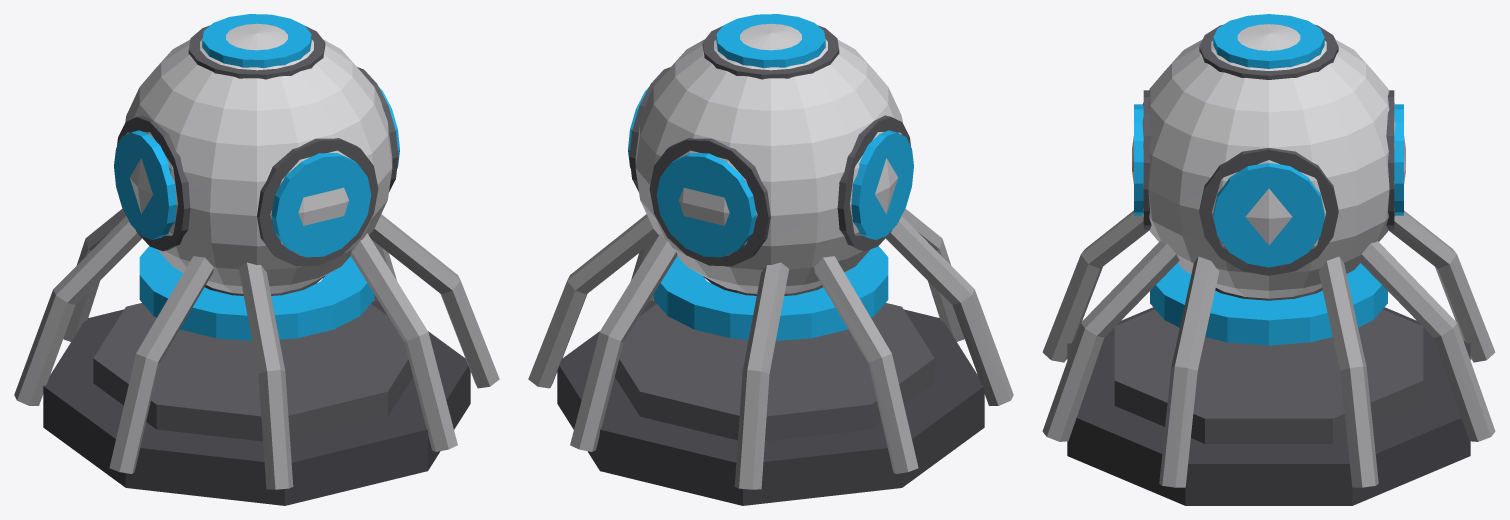
File: vge_grav_field_extender.obj
3 views of the same model, side by side, from view 1: azimuth 30°, elevation 25°; view 2: azimuth 150°, elevation 25°; view 3: azimuth 270°, elevation 25° (orthographic).
Parts seen in each view (by area): view 1: vge_grav_field_extender_11, vge_grav_field_extender_0, vge_grav_field_extender_1, vge_grav_field_extender_10, vge_grav_field_extender_21, vge_grav_field_extender_8, vge_grav_field_extender_9, vge_grav_field_extender_7, vge_grav_field_extender_6, vge_grav_field_extender_2, vge_grav_field_extender_23, vge_grav_field_extender_20 (+5 smaller); view 2: vge_grav_field_extender_11, vge_grav_field_extender_0, vge_grav_field_extender_1, vge_grav_field_extender_10, vge_grav_field_extender_17, vge_grav_field_extender_5, vge_grav_field_extender_4, vge_grav_field_extender_6, vge_grav_field_extender_7, vge_grav_field_extender_3, vge_grav_field_extender_23, vge_grav_field_extender_16 (+5 smaller); view 3: vge_grav_field_extender_11, vge_grav_field_extender_0, vge_grav_field_extender_1, vge_grav_field_extender_10, vge_grav_field_extender_19, vge_grav_field_extender_4, vge_grav_field_extender_9, vge_grav_field_extender_2, vge_grav_field_extender_3, vge_grav_field_extender_18, vge_grav_field_extender_5, vge_grav_field_extender_8 (+6 smaller).
Boxes of the visible parts, box(x1,y1,x2,y2) form: vge_grav_field_extender_11: box(125, 23, 392, 293); vge_grav_field_extender_0: box(43, 300, 470, 505); vge_grav_field_extender_1: box(93, 303, 412, 441); vge_grav_field_extender_10: box(139, 246, 374, 340); vge_grav_field_extender_21: box(271, 153, 371, 257); vge_grav_field_extender_8: box(239, 262, 293, 489); vge_grav_field_extender_9: box(350, 233, 457, 451); vge_grav_field_extender_7: box(109, 256, 213, 473); vge_grav_field_extender_6: box(14, 216, 142, 405); vge_grav_field_extender_2: box(369, 214, 499, 388); vge_grav_field_extender_23: box(114, 130, 176, 239); vge_grav_field_extender_20: box(257, 138, 378, 266); vge_grav_field_extender_11: box(635, 23, 902, 293); vge_grav_field_extender_0: box(557, 300, 984, 505); vge_grav_field_extender_1: box(615, 303, 934, 441); vge_grav_field_extender_10: box(653, 246, 888, 340); vge_grav_field_extender_17: box(656, 153, 756, 257); vge_grav_field_extender_5: box(734, 262, 788, 489); vge_grav_field_extender_4: box(570, 233, 677, 451); vge_grav_field_extender_6: box(814, 256, 918, 473); vge_grav_field_extender_7: box(885, 216, 1013, 405); vge_grav_field_extender_3: box(528, 214, 658, 388); vge_grav_field_extender_23: box(851, 130, 913, 239); vge_grav_field_extender_16: box(649, 138, 770, 266); vge_grav_field_extender_11: box(1132, 24, 1405, 298); vge_grav_field_extender_0: box(1067, 307, 1470, 505); vge_grav_field_extender_1: box(1114, 309, 1423, 443); vge_grav_field_extender_10: box(1150, 263, 1387, 345); vge_grav_field_extender_19: box(1213, 163, 1324, 267); vge_grav_field_extender_4: box(1358, 241, 1495, 441); vge_grav_field_extender_9: box(1042, 241, 1179, 441); vge_grav_field_extender_2: box(1159, 256, 1219, 487); vge_grav_field_extender_3: box(1318, 256, 1378, 487); vge_grav_field_extender_18: box(1199, 148, 1338, 275); vge_grav_field_extender_5: box(1388, 210, 1495, 362); vge_grav_field_extender_8: box(1042, 210, 1149, 362).
Size of the model in its own units: 0.976 by 0.92 by 0.976.
